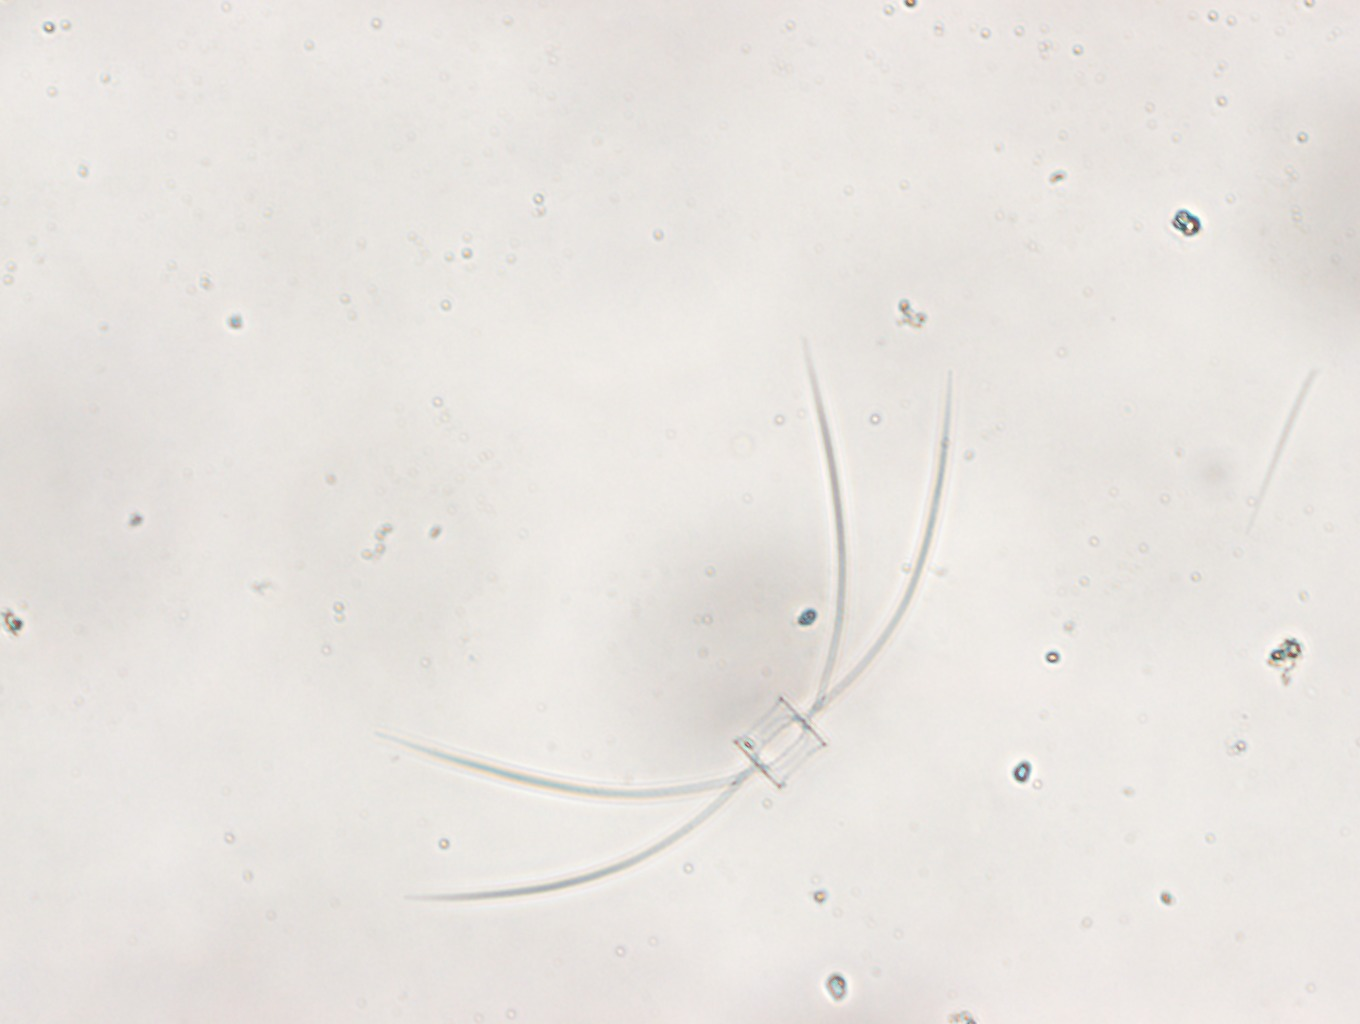chaetoceros: (401, 341, 953, 900)
